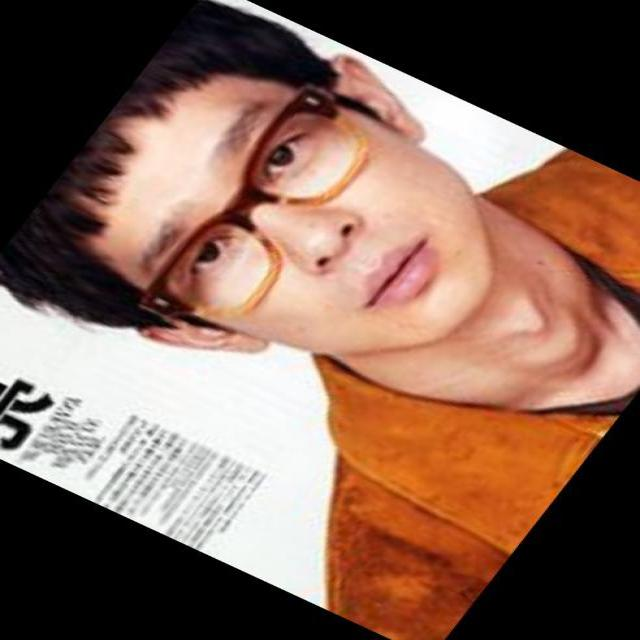glasses: (128, 79, 403, 347)
